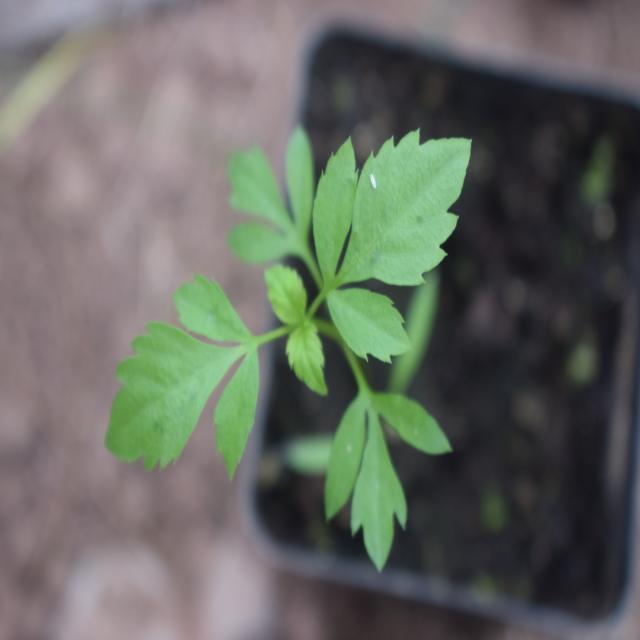Bidens pilosa: (112, 82, 485, 584)
